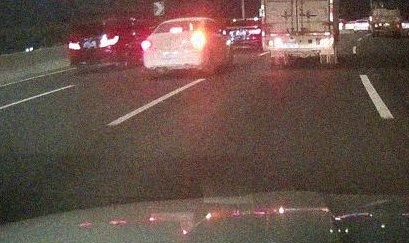L_light: (67, 40, 81, 51), (142, 39, 153, 50)
R_light: (190, 36, 208, 47), (100, 39, 115, 48)
T_light: (168, 27, 184, 33), (92, 25, 103, 29)
night-no: (67, 22, 120, 71)
night-right: (141, 17, 211, 77)
